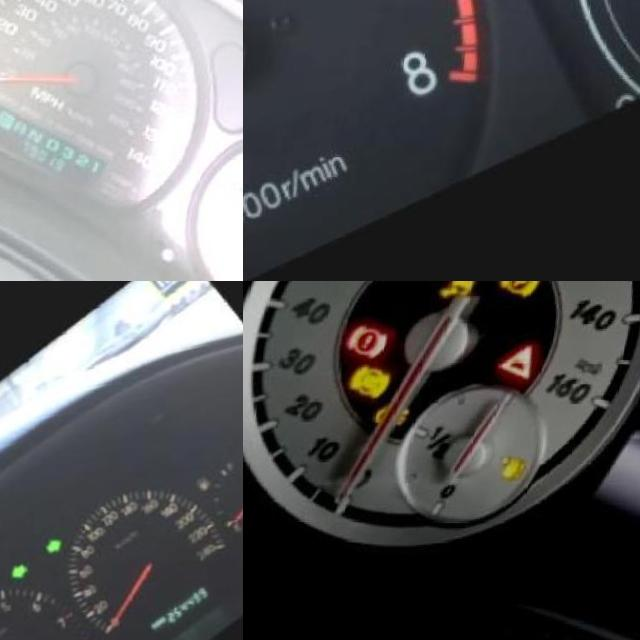Low fuel level: (516, 458, 547, 489), (194, 470, 214, 488)
